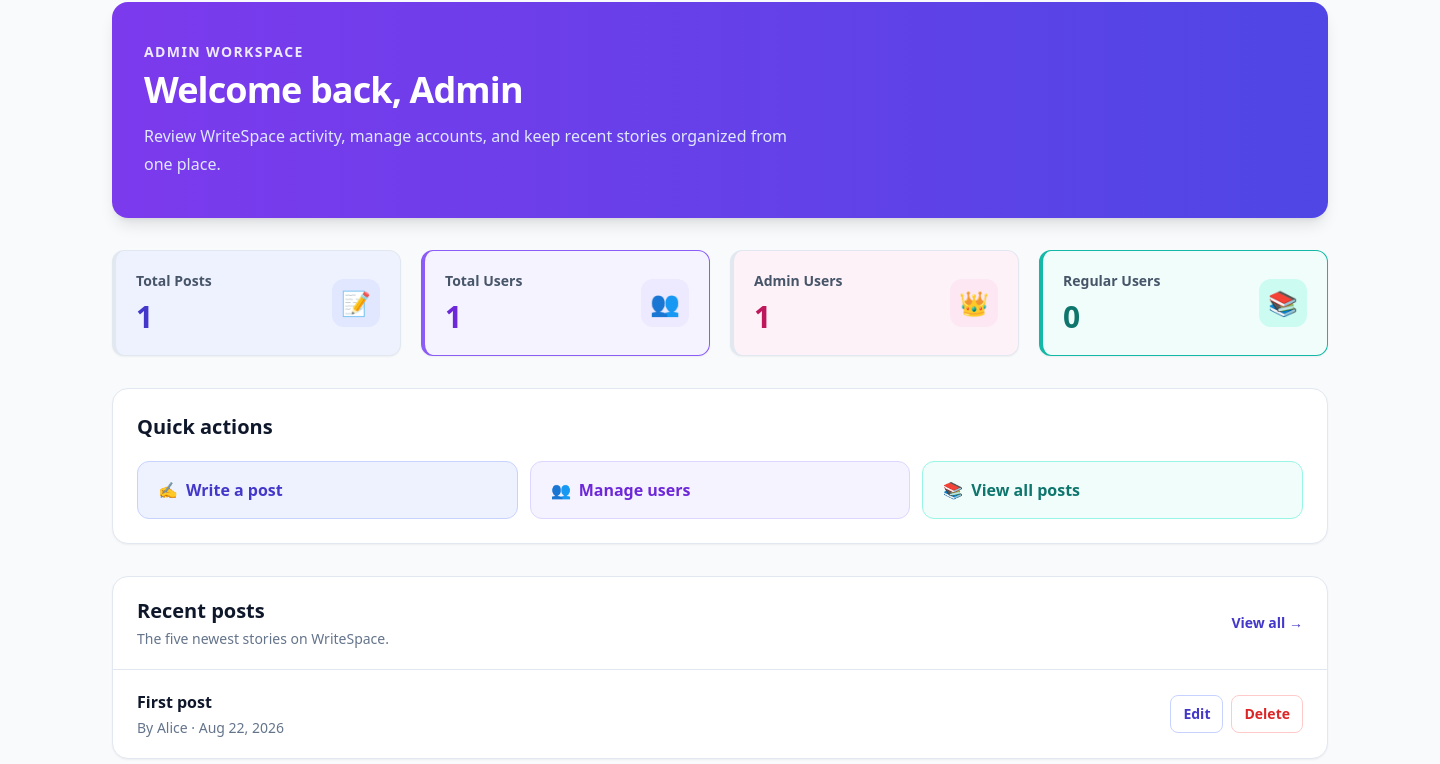
Scenario: AdminDashboard › keeps the post visible and reports a failed delete write
Expected: the link "First post" is shown, x1=137 y1=691 x2=212 y2=713
What coordinates should you click on to do the following:
click the button with aria-label "Delete First post"
I would click on:
 (1267, 714)
Its box is x1=1232 y1=695 x2=1303 y2=733.
(page scrolled)
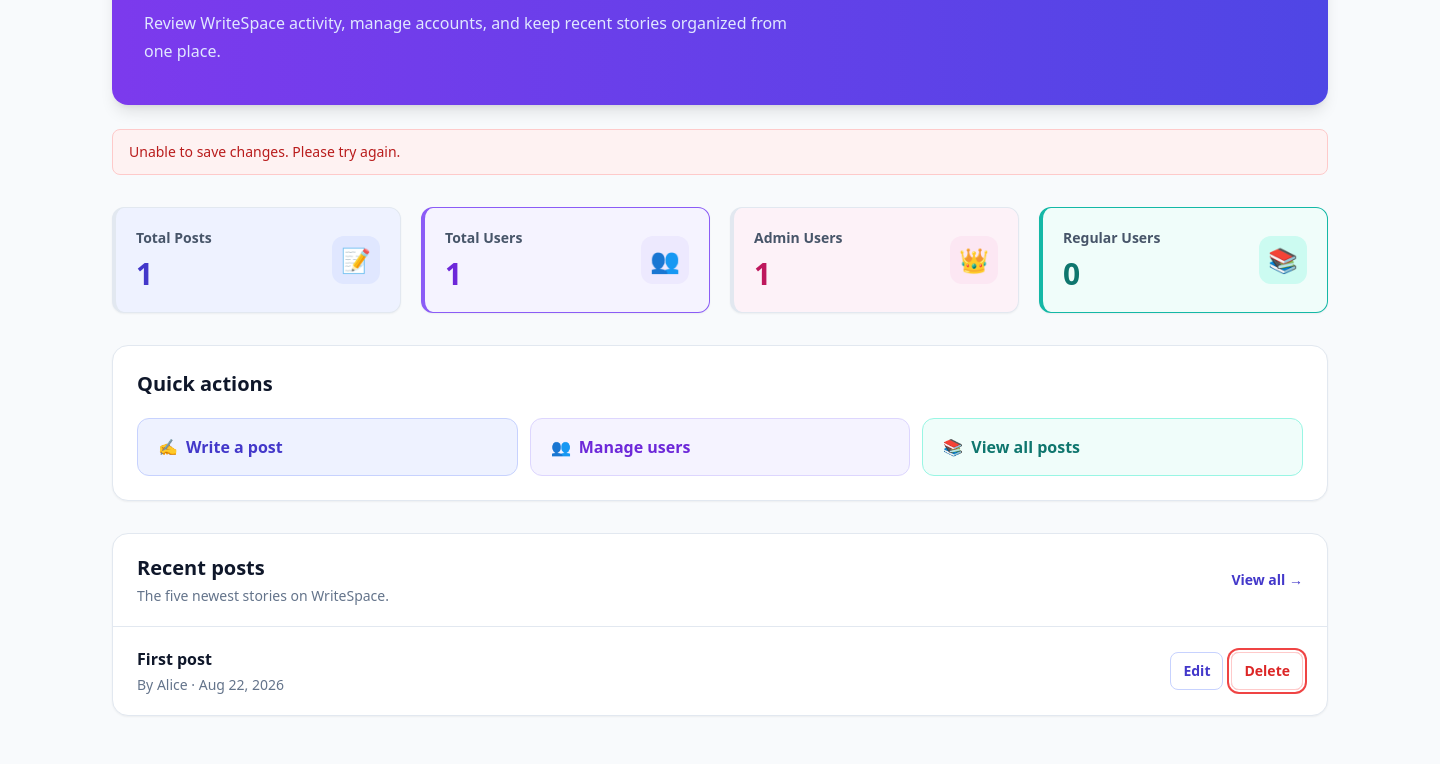
Expected: the link "First post" is shown, x1=137 y1=648 x2=212 y2=670
Expected: the message reads "Unable to save changes. Please try again.", x1=129 y1=142 x2=400 y2=161
